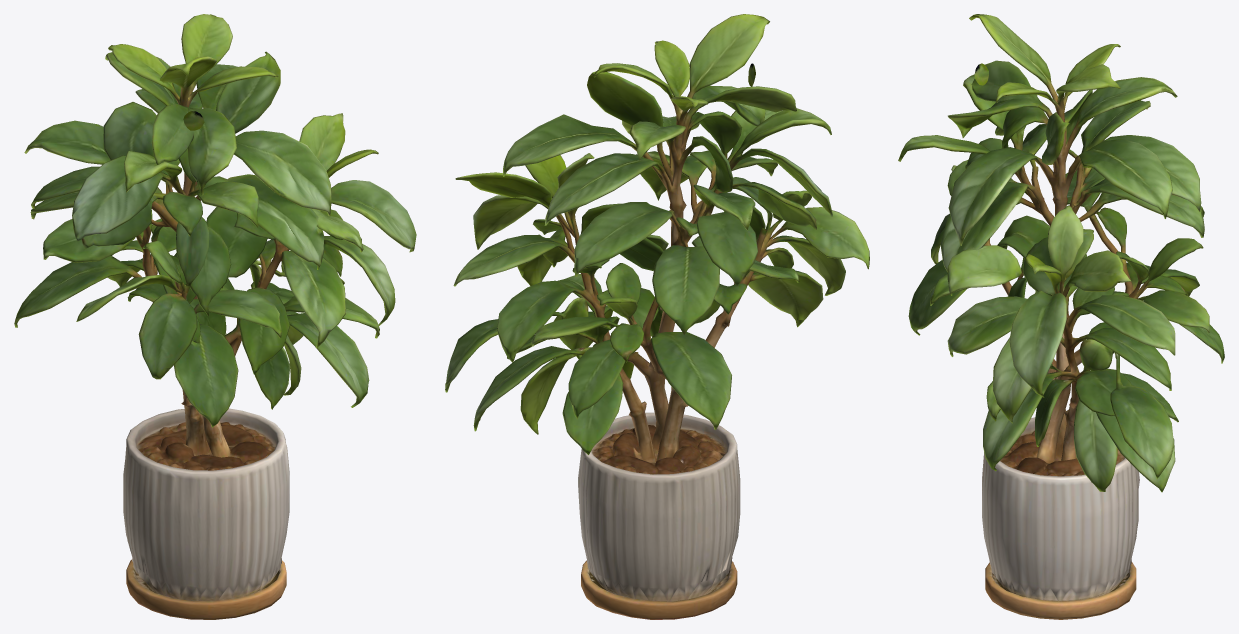
File: urban-floor-ficus-v1.glb
3 renders of one model, left to right at view 1: azimuth 30°, elevation 25°; view 2: azimuth 150°, elevation 25°; view 3: azimuth 270°, elevation 25°, orthographic. The views are drawn at different scales.
Parts seen in each view (by area): view 1: urban-floor-ficus-v1; view 2: urban-floor-ficus-v1; view 3: urban-floor-ficus-v1.
Boxes of the visible parts, x1=… form: urban-floor-ficus-v1: x1=14, y1=14, x2=416, y2=619; urban-floor-ficus-v1: x1=445, y1=14, x2=869, y2=619; urban-floor-ficus-v1: x1=898, y1=14, x2=1224, y2=619.
Size of the model in its own units: 0.7854 by 1.15 by 0.6234.
1 material, 1 textured.
